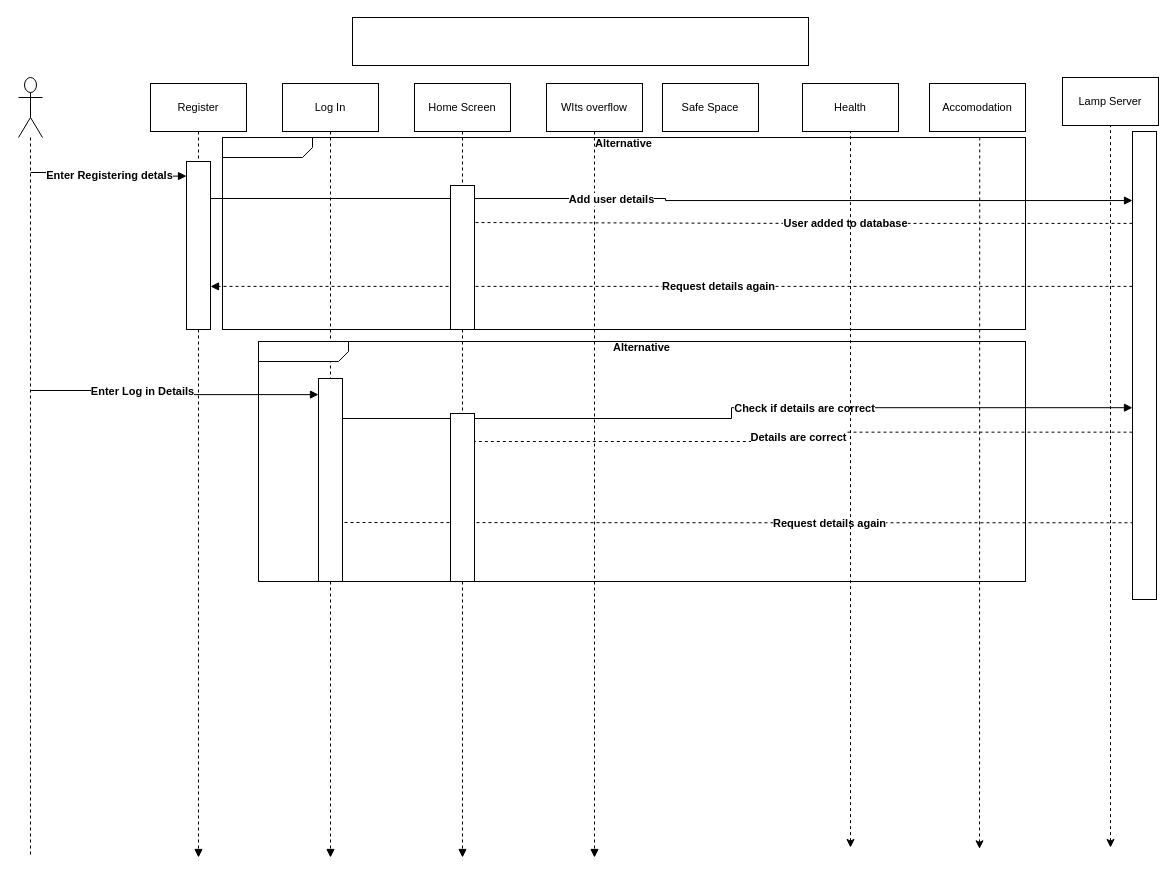
This 1176x883 diagram has some shape labels left out. Each missing label, with the centre of its shape:
"Actor" goes at [30,107].
"SQUENCE DIAGRAM FOR THE WITS APP" goes at [580,41].
